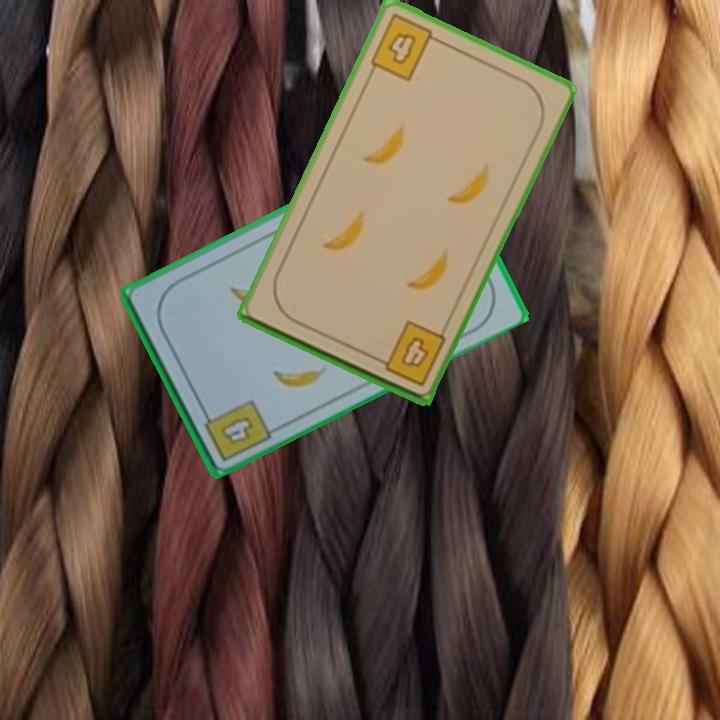4b: (366, 10, 444, 84), (370, 317, 449, 389), (197, 395, 274, 464)
